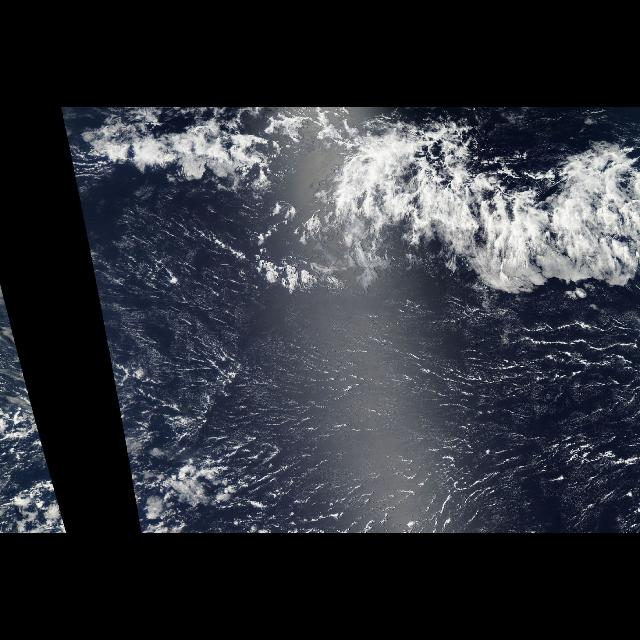Fish: (80, 108, 640, 292)
Sugar: (112, 307, 640, 533)
